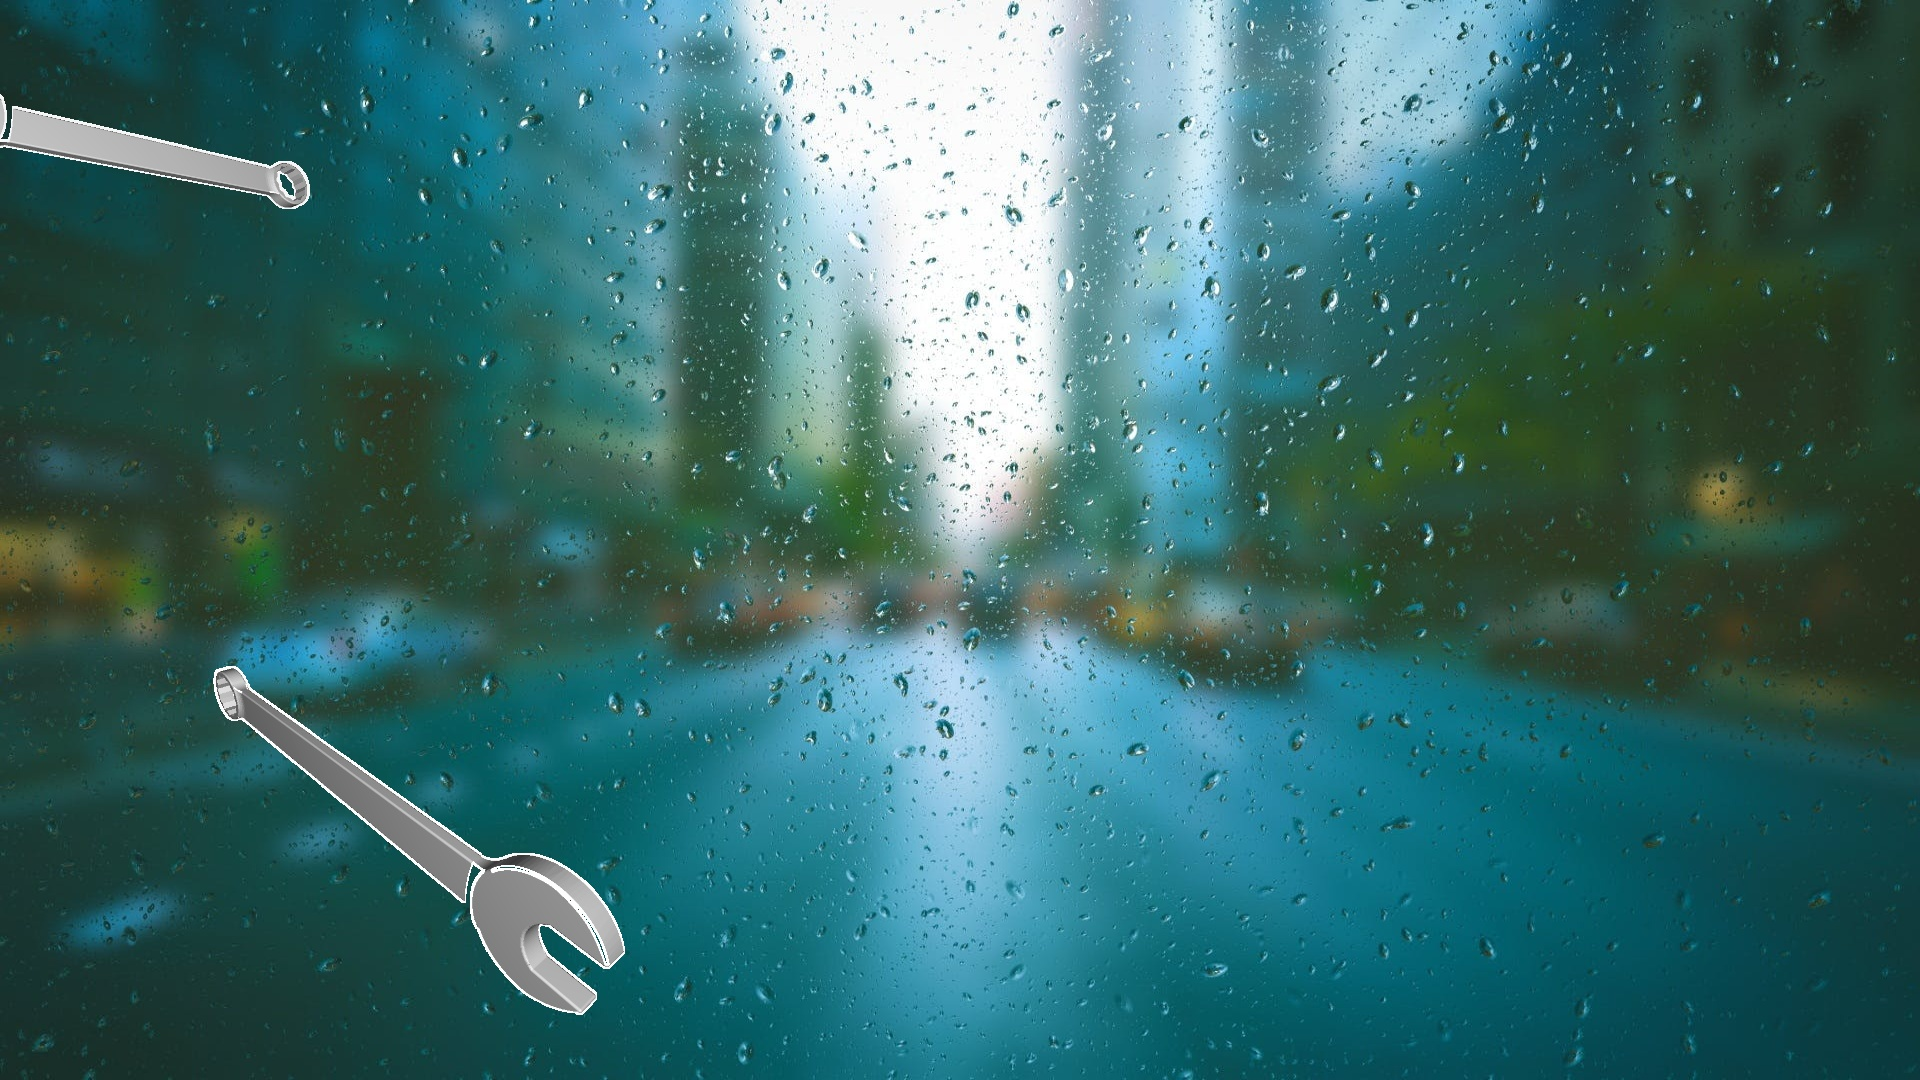Mixed Key: (214, 666, 624, 1014), (0, 94, 309, 208)
